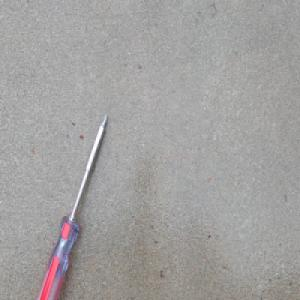Screwdriver: (35, 113, 109, 299)
